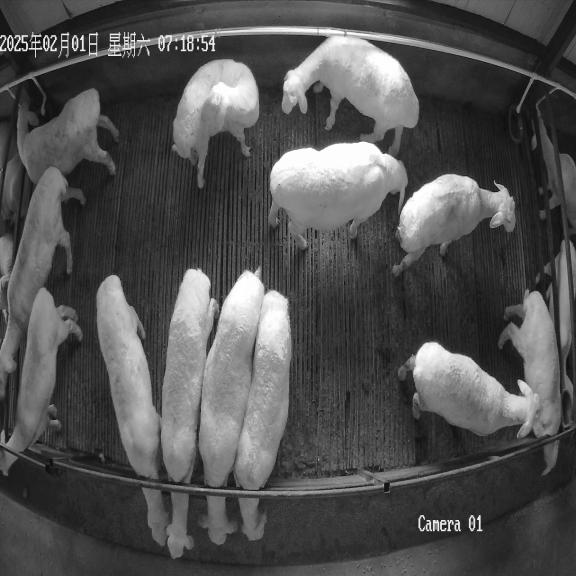drinking: (17, 88, 119, 184)
eating: (97, 275, 169, 546), (199, 270, 265, 545), (161, 269, 218, 558), (234, 290, 291, 540), (498, 290, 561, 475)
stand: (281, 36, 419, 156), (0, 288, 82, 475), (0, 167, 72, 375), (269, 142, 407, 249), (399, 342, 539, 438), (392, 174, 515, 275), (172, 59, 259, 188)
